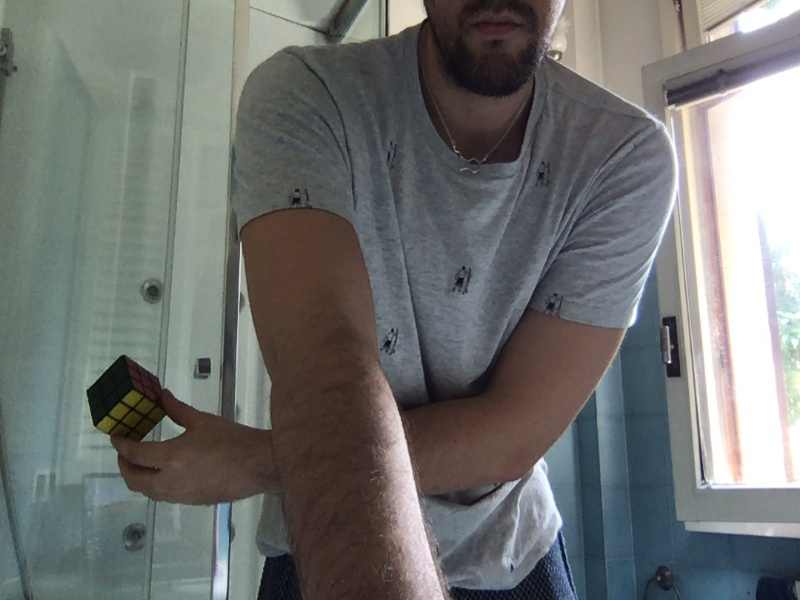rubik: (87, 355, 167, 443)
